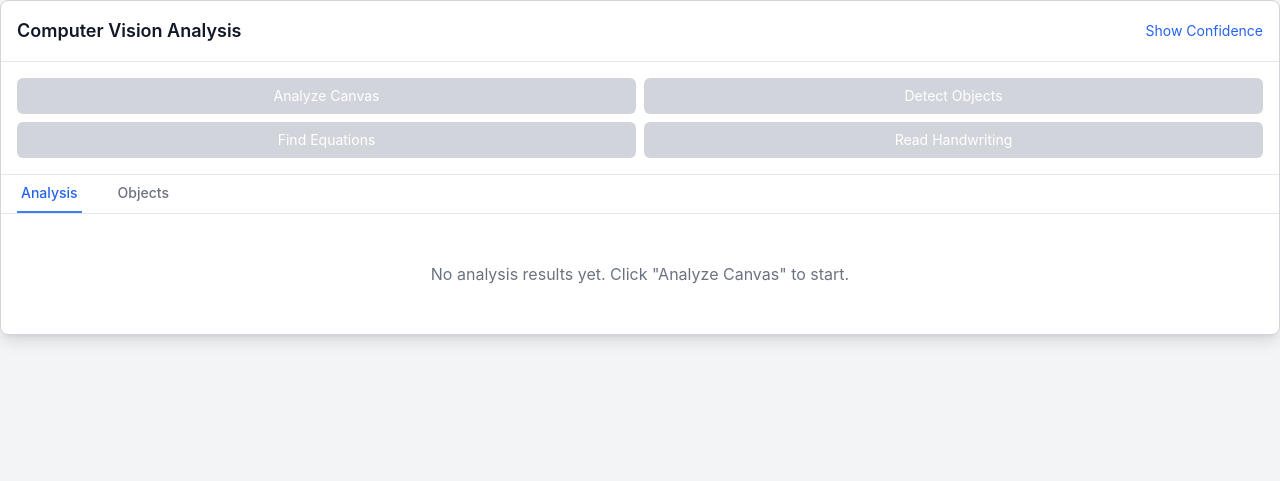
Test: ComputerVisionPanel › should display detected objects
The width and height of the screenshot is (1280, 481).
// Switch to objects tab
Click the button "Objects".
click(143, 194)  # box [114,175,173,213]
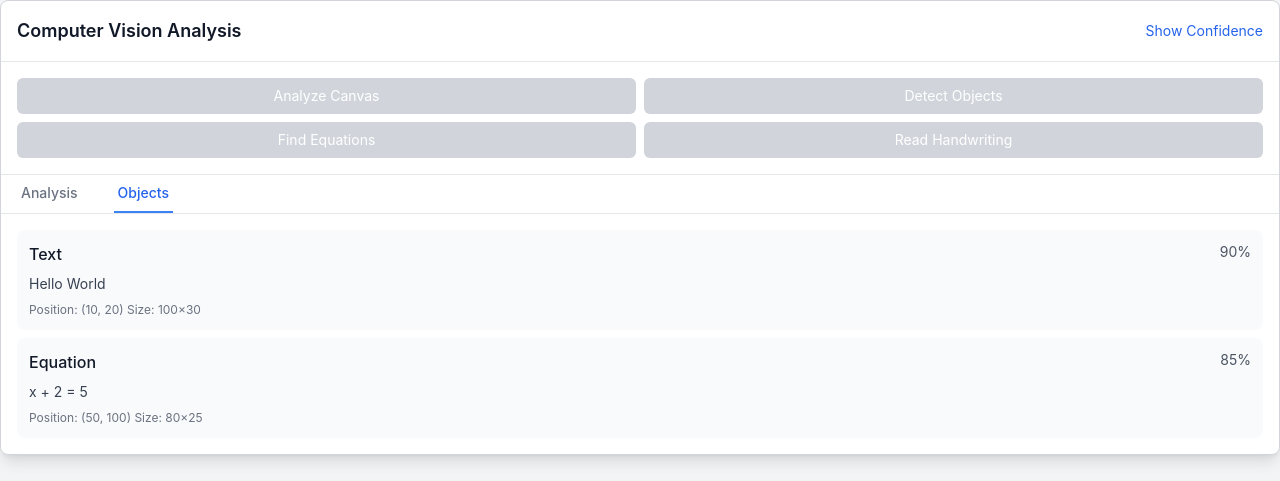
Expected: the text "text" is shown, [29,242,62,266]
Expected: the text "Hello World" is shown, [29,275,106,292]
Expected: the text "90%" is shown, [1220,242,1251,262]
